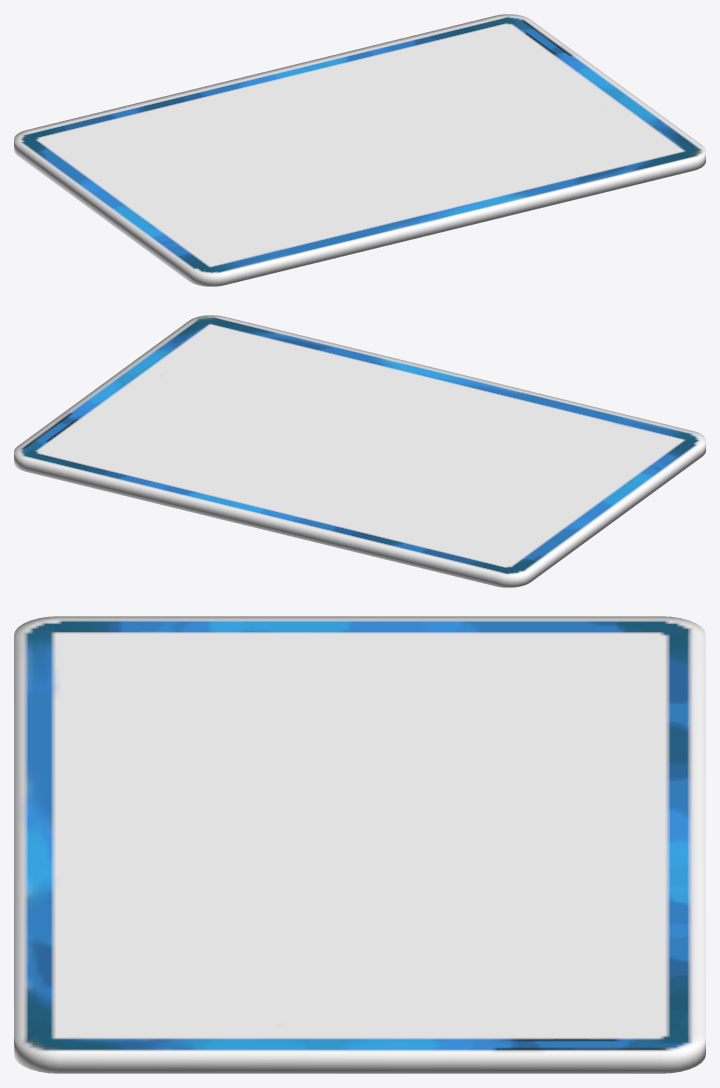
File: Card01.glb
3 views of the same model, one above another, from view 1: azimuth 30°, elevation 25°; view 2: azimuth 150°, elevation 25°; view 3: azimuth 270°, elevation 25° (orthographic). The views are drawn at different scales.
Visible parts, largest first — view 1: Card_01; view 2: Card_01; view 3: Card_01.
Part boxes in pixels (bbox=[...]): Card_01: bbox=[14, 14, 705, 286]; Card_01: bbox=[14, 315, 705, 587]; Card_01: bbox=[14, 616, 705, 1073].
Size of the model in its own units: 3 by 0.06 by 2.
1 material, 1 textured.
